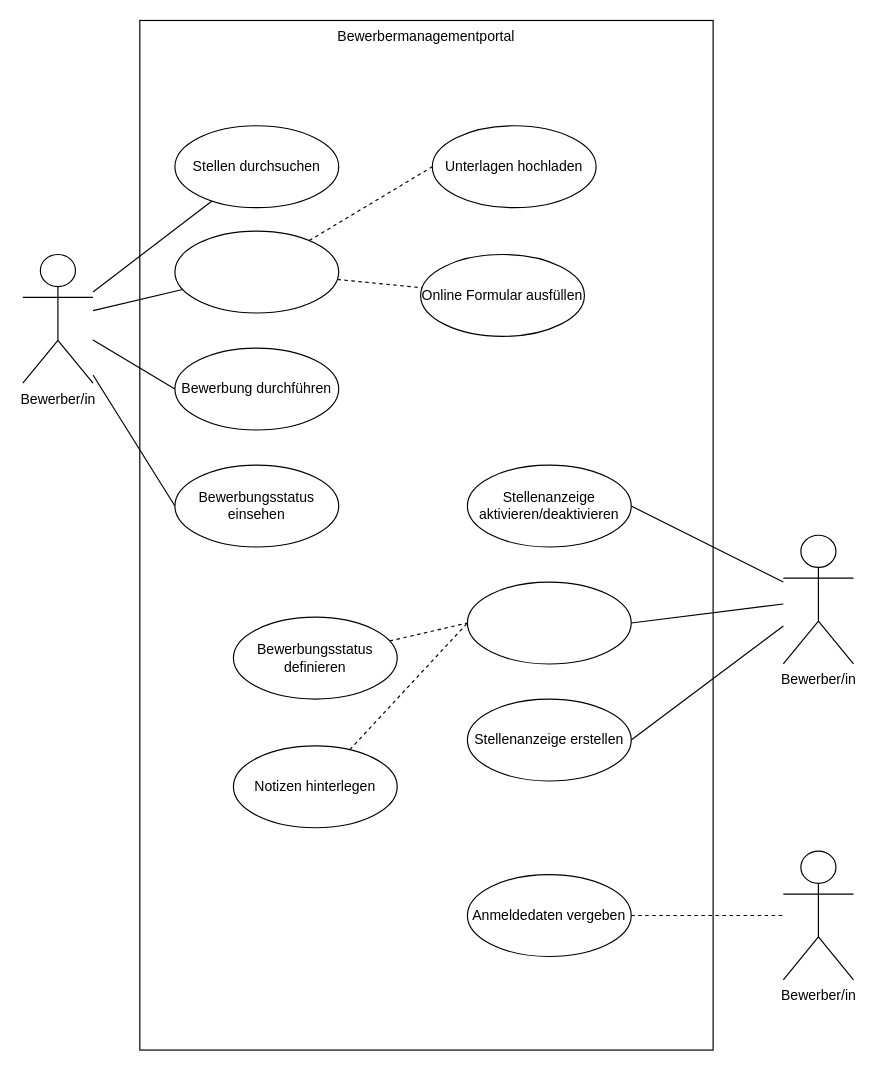
Image size: 875x1071. Some labels were removed from this diagram. Here are the shapes that lost their labels. From the top down, the centre of each, then its label:
At (x=256, y=271): "Stellenanzeige betrachten".
At (x=548, y=622): "Stellenanzeige bearbeiten".
